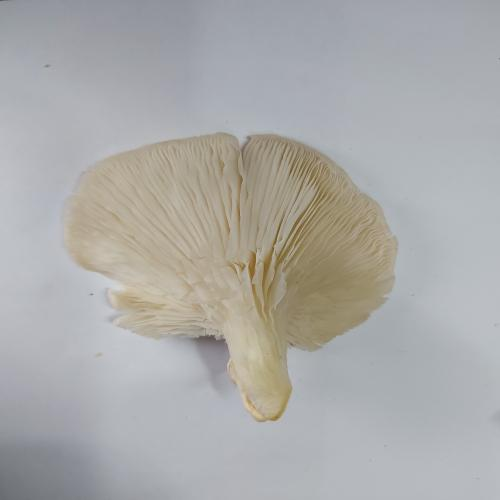Oyster Mushroom: (61, 131, 399, 423)
